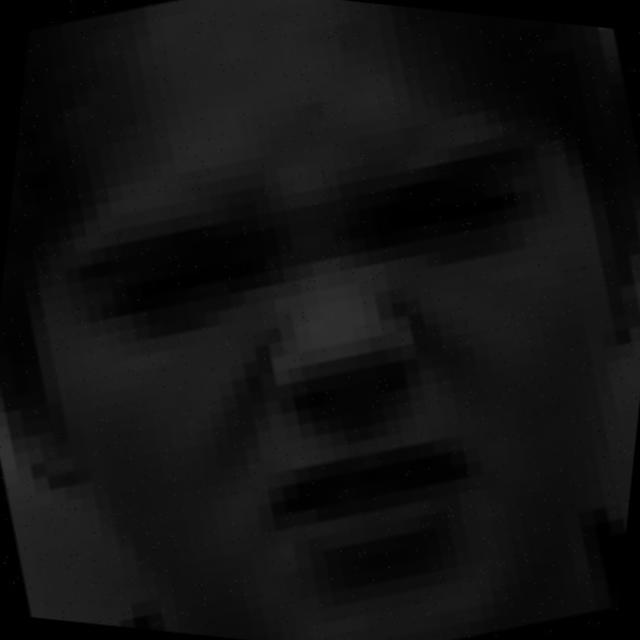Disgust: (55, 73, 602, 596)
